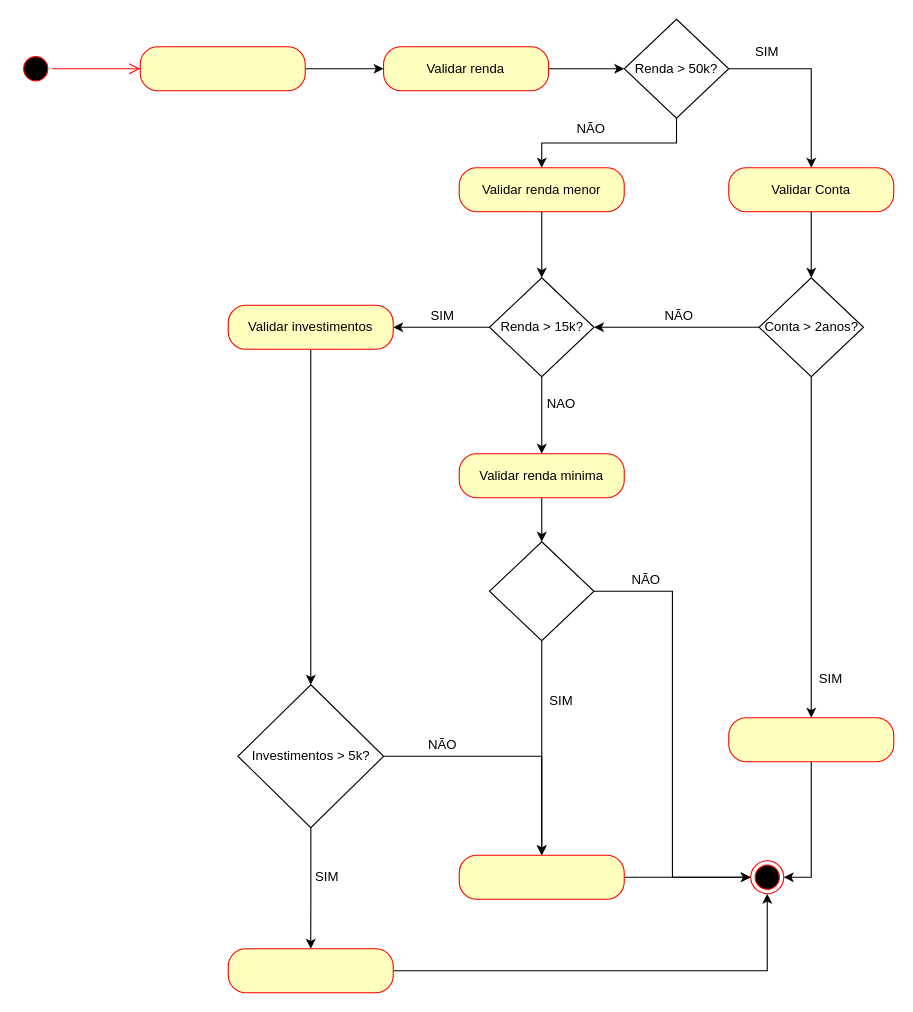
Image size: 913x1012. Some labels were removed from this diagram. The centre of each missing label's shape, as x and y in pixels:
"Oferta A" goes at point (541, 876).
"Oferta B" goes at point (310, 970).
"Oferta C" goes at point (811, 739).
"Receber renda, investimentos e tempo de conta" goes at point (222, 68).
"Renda > 1k?" goes at point (541, 591).
